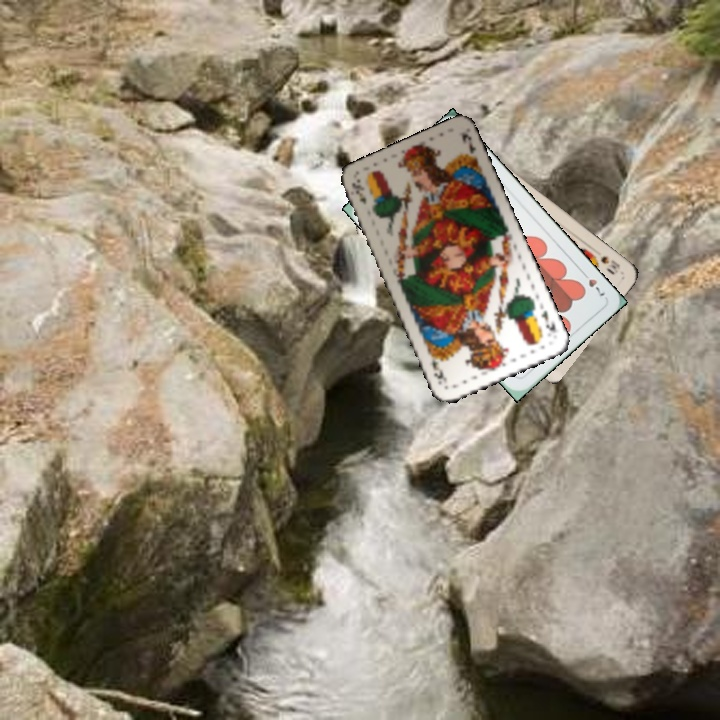EK: (347, 176, 369, 206), (537, 306, 558, 335)
H7: (577, 266, 608, 299)
S10: (588, 250, 623, 276)
